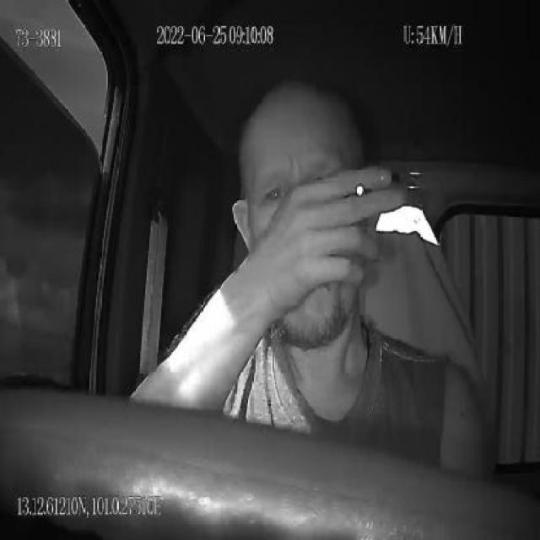smoking: (354, 179, 369, 197)
